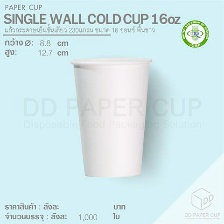paper_cup: (62, 49, 158, 182)
